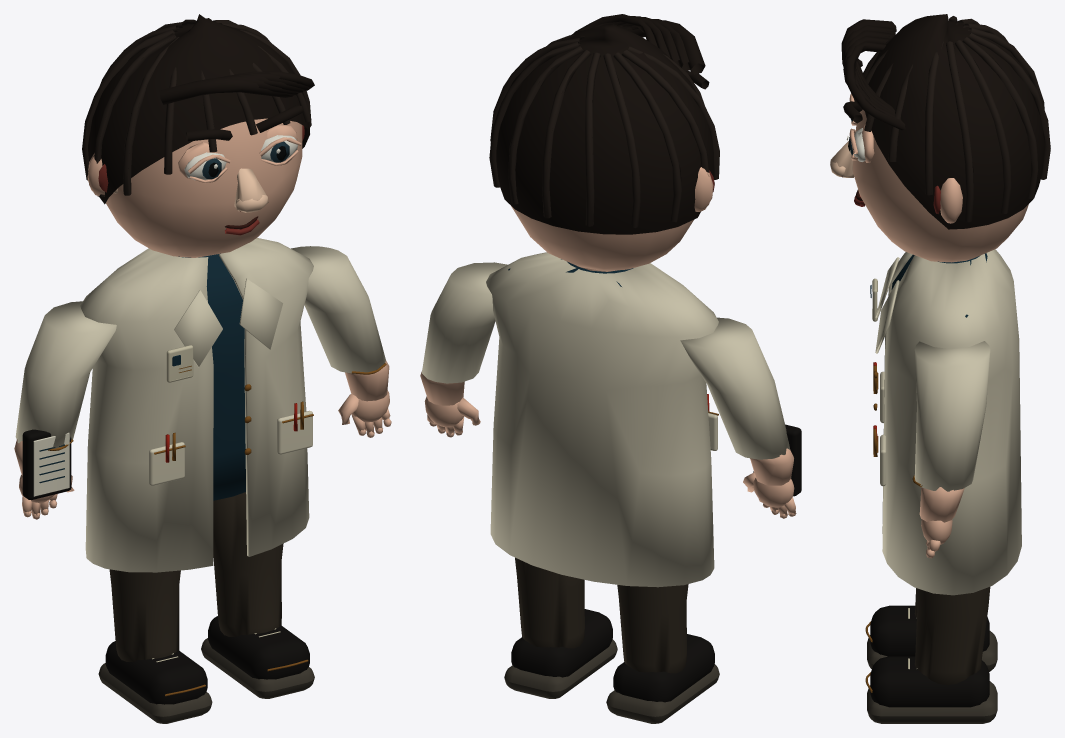
The model's file is doctor-42.glb.
3 views of the same model, side by side, from view 1: azimuth 30°, elevation 25°; view 2: azimuth 150°, elevation 25°; view 3: azimuth 270°, elevation 25° (orthographic).
Parts seen in each view (by area): view 1: Body, Head, LegR, ArmL, LegL, ArmR; view 2: Body, Head, ArmL, LegL, LegR, ArmR; view 3: Head, Body, LegR, ArmR, LegL.
Boxes of the visible parts, x1=… form: Body: x1=80, y1=216, x2=313, y2=572; Head: x1=82, y1=14, x2=314, y2=257; LegR: x1=201, y1=492, x2=314, y2=698; ArmL: x1=14, y1=301, x2=116, y2=519; LegL: x1=98, y1=569, x2=212, y2=723; ArmR: x1=291, y1=246, x2=391, y2=437; Body: x1=486, y1=252, x2=718, y2=587; Head: x1=489, y1=14, x2=719, y2=270; ArmL: x1=680, y1=317, x2=801, y2=518; LegL: x1=606, y1=584, x2=719, y2=723; LegR: x1=504, y1=557, x2=617, y2=698; ArmR: x1=420, y1=262, x2=507, y2=437; Head: x1=830, y1=14, x2=1050, y2=262; Body: x1=854, y1=190, x2=1021, y2=595; LegR: x1=865, y1=587, x2=997, y2=723; ArmR: x1=912, y1=341, x2=990, y2=558; LegL: x1=865, y1=592, x2=997, y2=671.
Bounding box in the file's own units: 0.747 × 1.29 × 0.3823.
